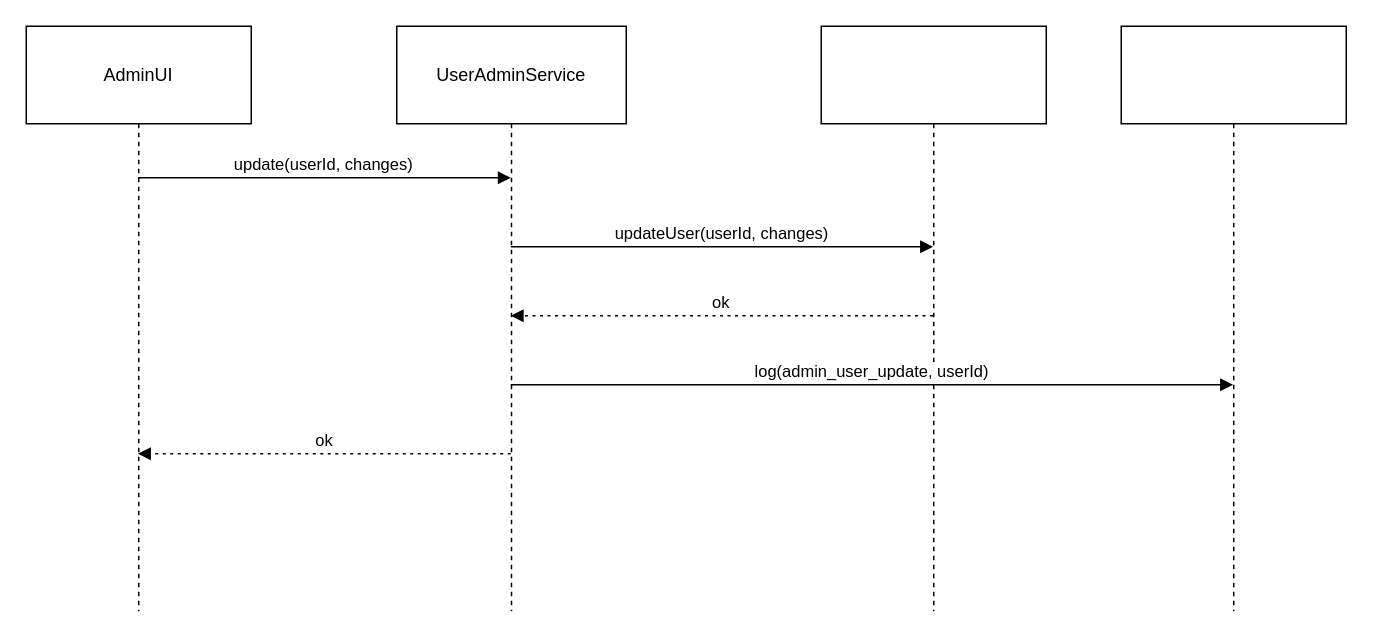
Image size: 1373x638. Some labels were removed from this diagram. The shapes that lost their labels are listed below. From the top down, each one's box as (x1, y1, x2, y2) in pixels, then its label:
(820, 25, 1046, 611): UserRepository
(1120, 25, 1346, 611): AuditLog
